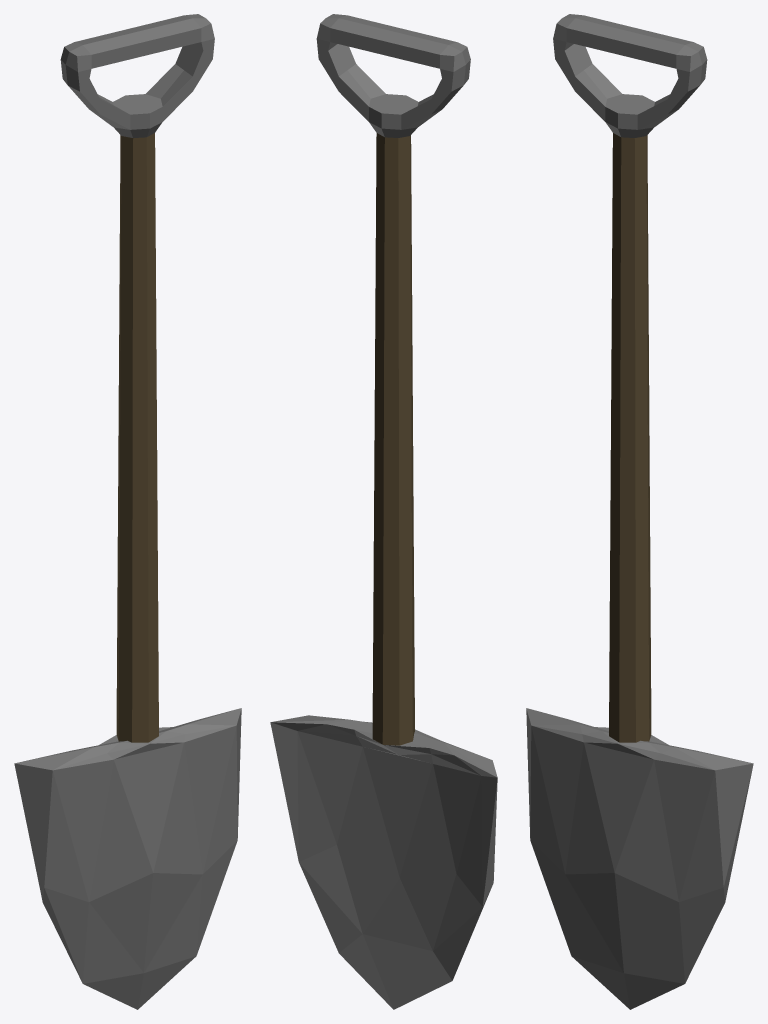
Rendered from shovel.fbx.
The picture shows the model from 3 angles, left to right: view 1: azimuth 30°, elevation 25°; view 2: azimuth 150°, elevation 25°; view 3: azimuth 330°, elevation 25°; orthographic projection.
Visible parts, largest first — view 1: Icosphere.015; view 2: Icosphere.015; view 3: Icosphere.015.
Boxes of the visible parts, box(x1,y1,x2,y2) form: Icosphere.015: box(14, 14, 241, 1009); Icosphere.015: box(270, 14, 497, 1009); Icosphere.015: box(526, 14, 753, 1009).
Bounding box in the file's own units: 0.3438 × 1.41 × 0.0729.
